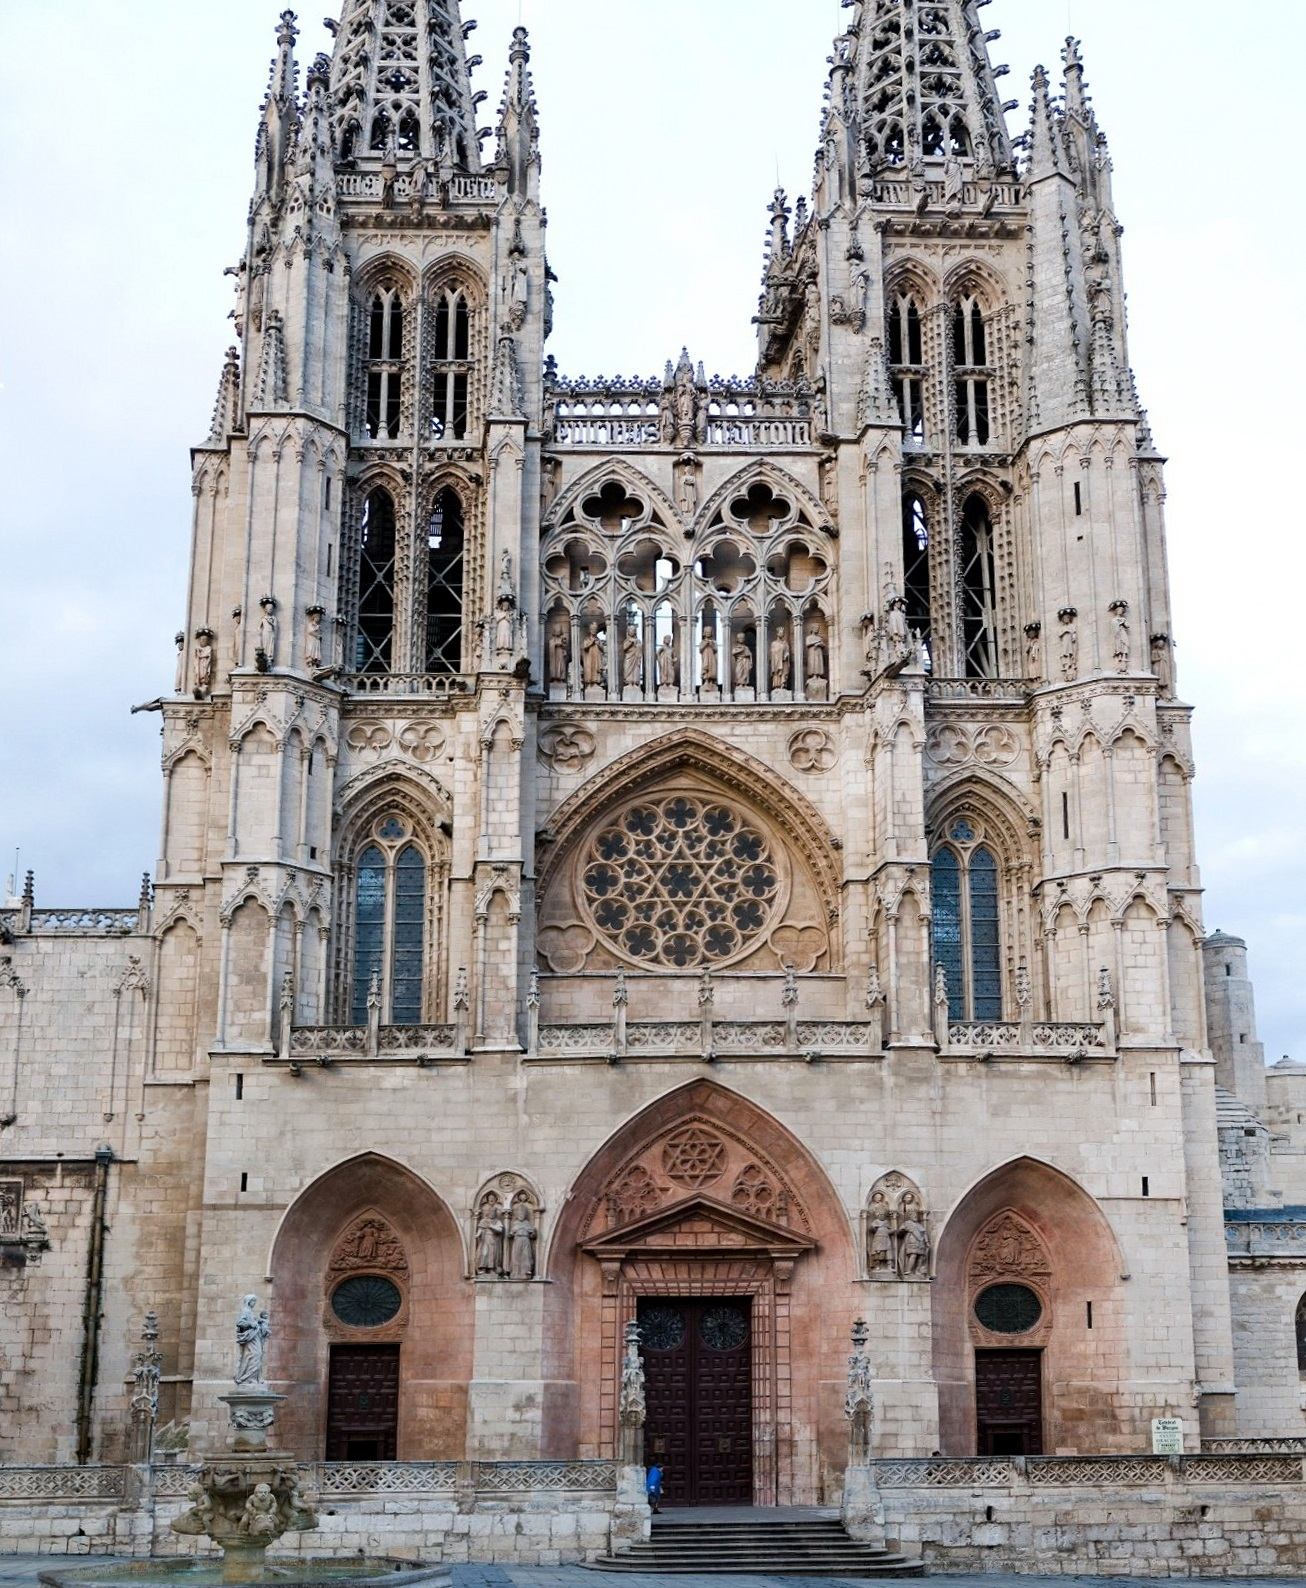arco-apuntado: (536, 724, 844, 905), (570, 1074, 842, 1190), (263, 1147, 470, 1278), (933, 1153, 1131, 1282), (689, 454, 836, 570), (540, 455, 689, 568), (332, 769, 452, 863), (923, 770, 1040, 867)
fronton: (576, 1188, 821, 1260)
pinaculo-gotico: (492, 21, 545, 156), (1055, 33, 1108, 142), (1084, 305, 1131, 423), (248, 301, 293, 408), (260, 7, 303, 113), (759, 175, 794, 295), (1022, 58, 1061, 168), (857, 335, 904, 425), (208, 339, 247, 442), (487, 317, 524, 417)
vano-adintelado: (617, 1275, 780, 1508)
